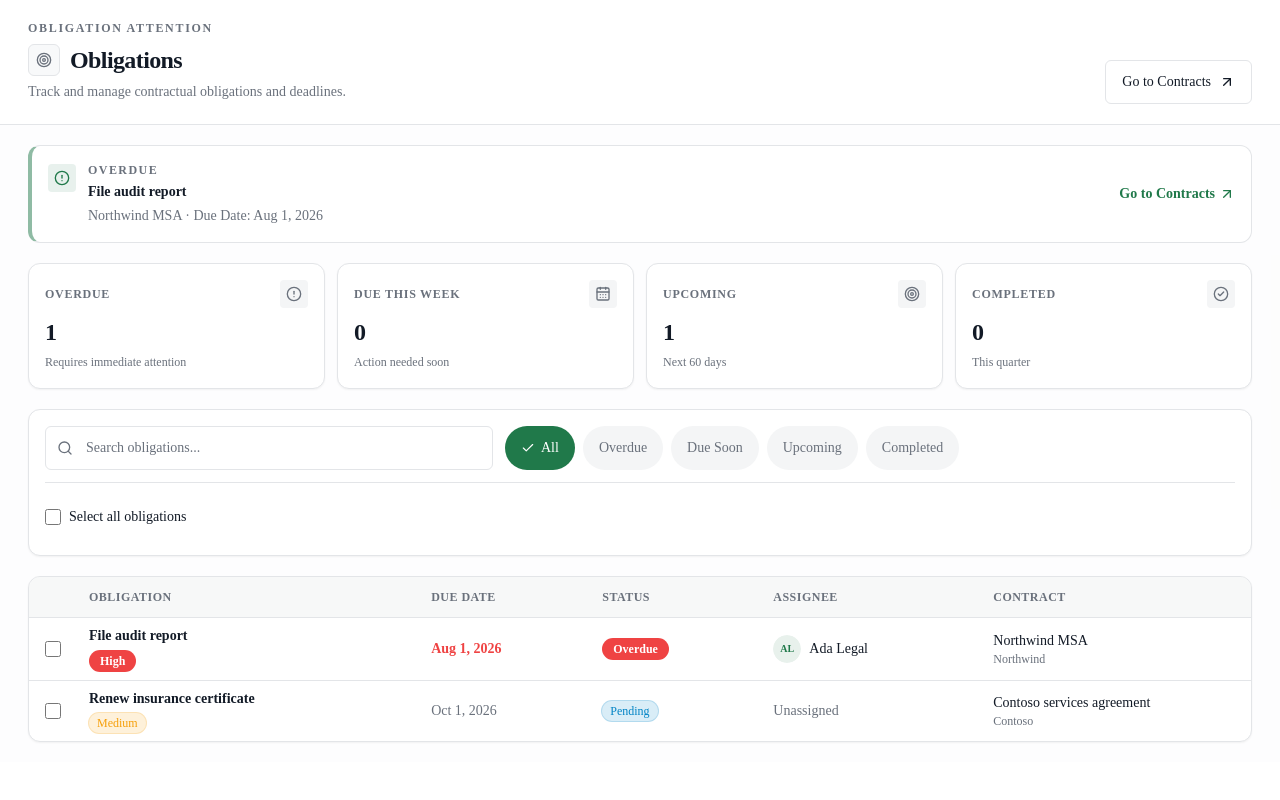
Test: obligations portfolio responsive action queue › keeps stats, filters, and search aligned to the same portfolio records
The width and height of the screenshot is (1280, 800).
Expected: the table named "Obligation results" is shown, [29,577,1251,741]
Expected: the text "1" is shown 2 times, [45,319,57,345]; [663,319,675,345]
Click the button "Overdue" at (623, 448), box [583,426,663,470]
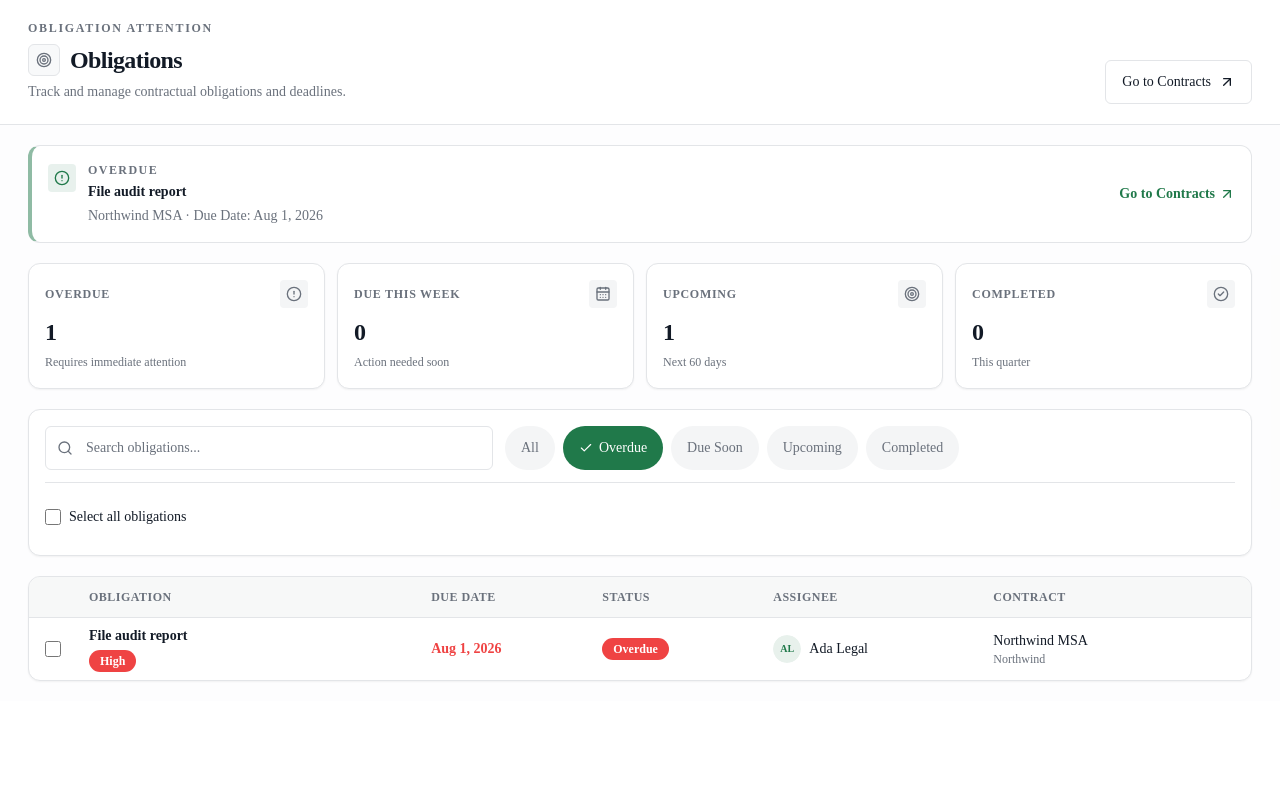
Expected: the link with aria-label "View File audit report" is shown, [89,628,188,672]
Type "no such obligation" into the search field labelled "Search obligations" at (269, 448), box [45,426,493,470]
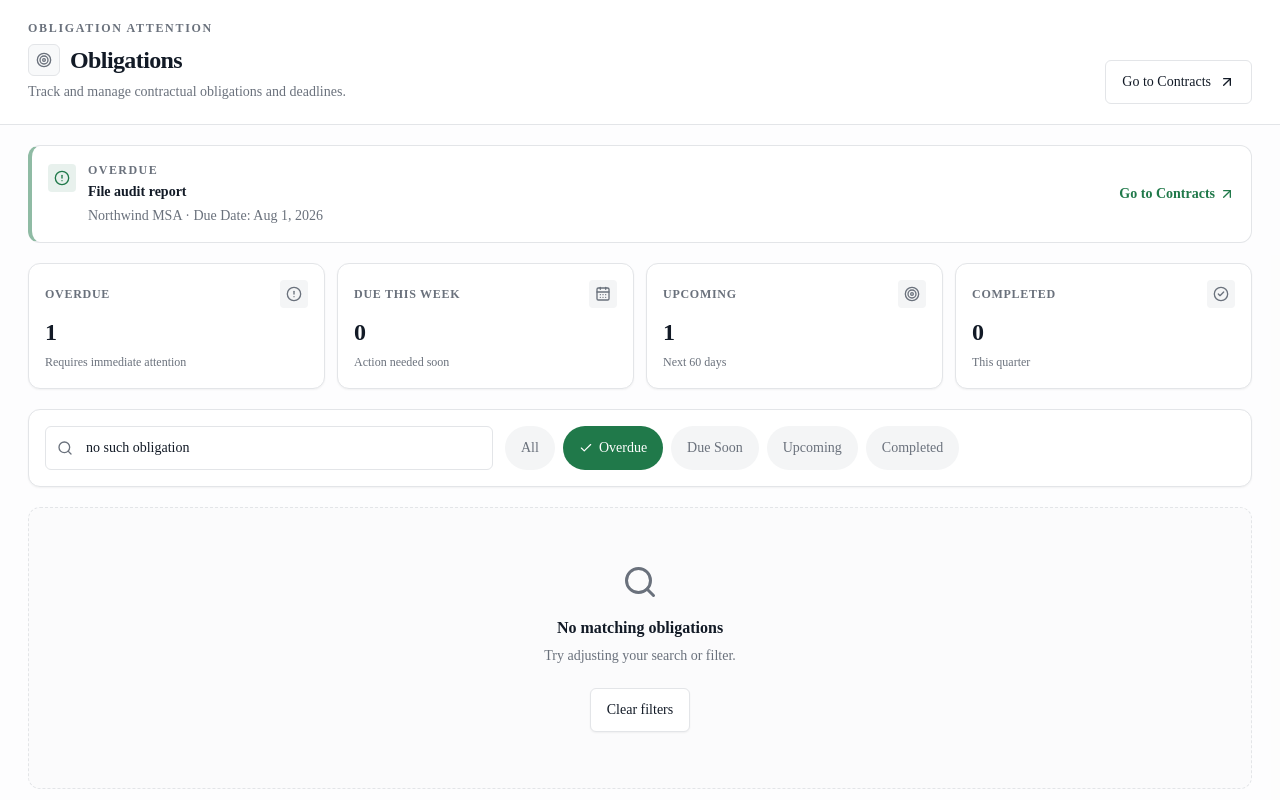
Now the heading "No matching obligations" is shown, box [557,619,723,636]
Click the button "Clear filters" at (640, 710), box [590,688,690,732]
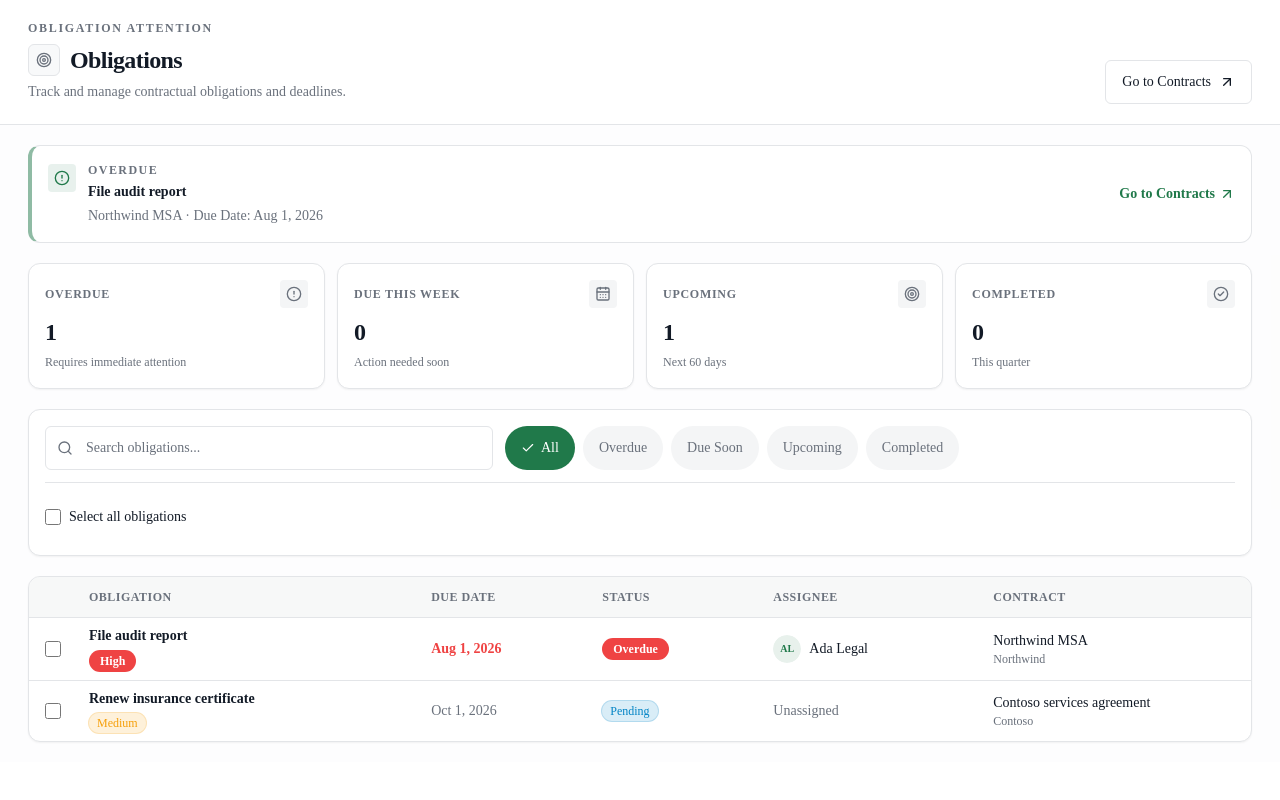
Now the link with aria-label "View File audit report" is shown, box [89,628,188,672]
Now the link with aria-label "View Renew insurance certificate" is shown, box [89,691,255,733]
